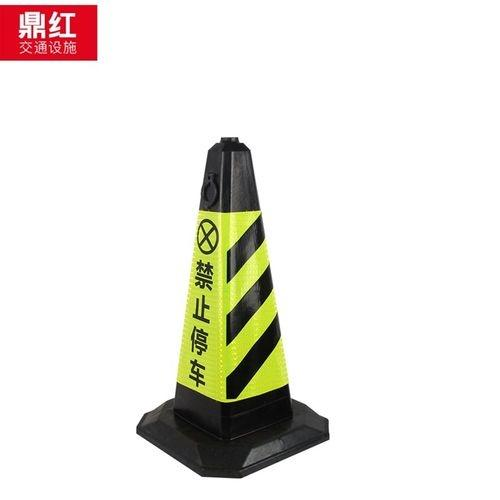cone_barrel: (143, 137, 316, 462)
